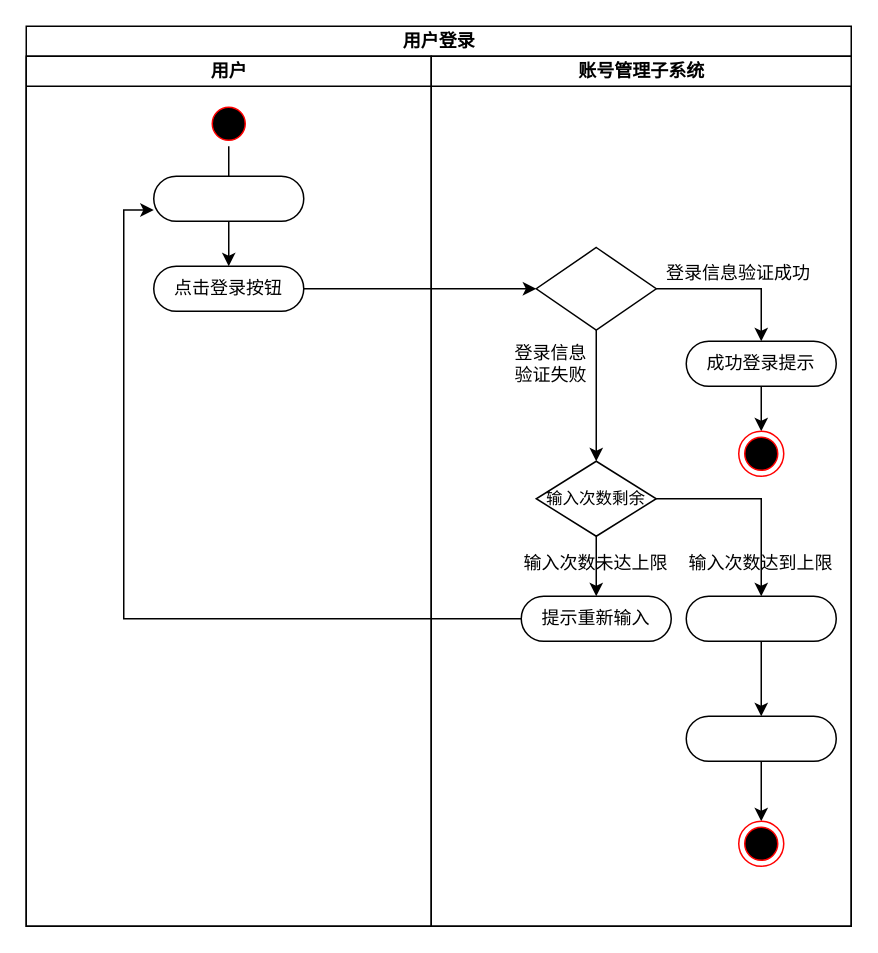
The diagram is 878 pixels wide and 953 high, and some of its shapes have lost their labels. The centre of each missing label's shape, as x and y in pixels:
"提示无剩余次数" goes at pixel 760 618.
"跳转到密码找回 界面" goes at pixel 760 738.
"输入手机号和密码" goes at pixel 228 198.
"验证登录信息" goes at pixel 595 288.
